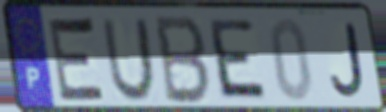0: (267, 16, 316, 105)
B: (154, 13, 213, 108)
E: (46, 13, 110, 108), (208, 17, 271, 104)
J: (328, 21, 367, 101)
U: (100, 16, 158, 105)
